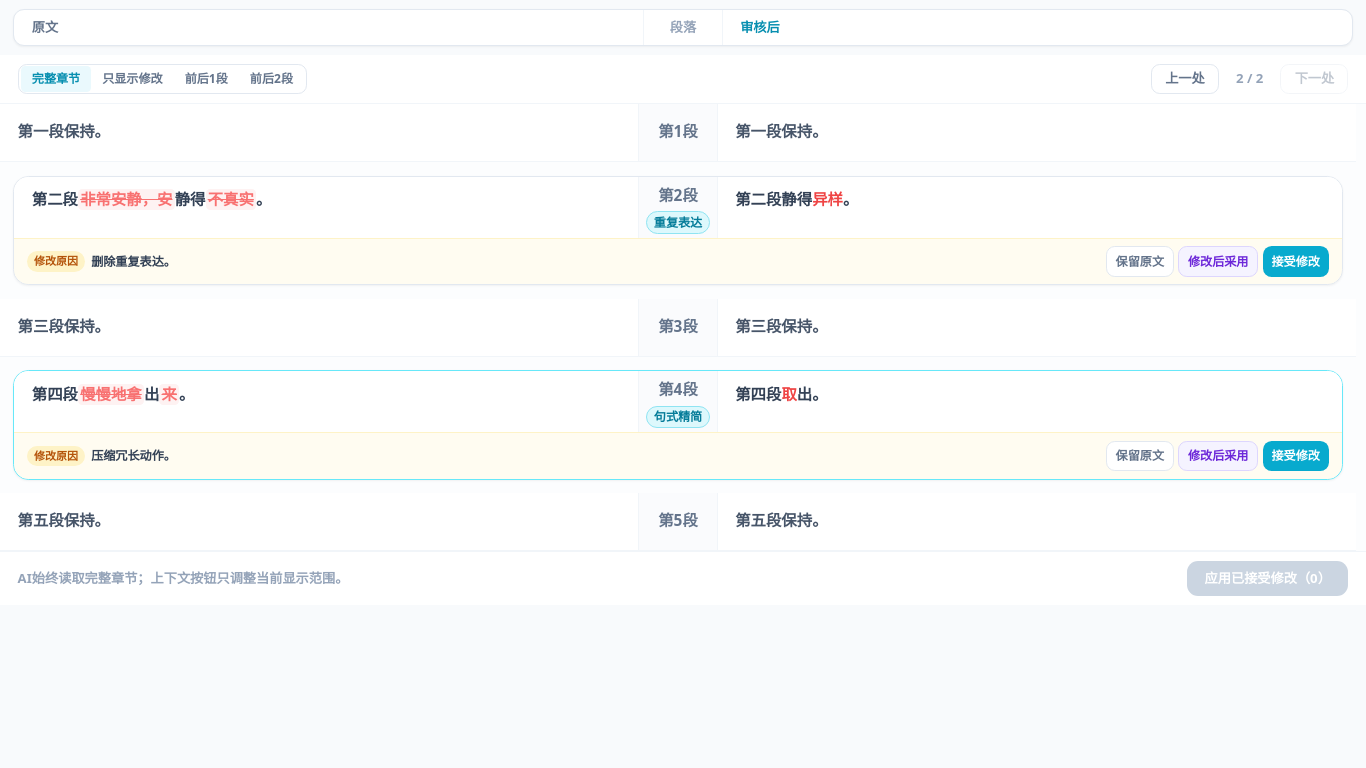
ChapterTextAuditContinuousReview › shows every changed paragraph on one page without previous or next navigation
The image size is (1366, 768).
Click the button "只显示修改". click: (132, 79)
box: [91,66,174,92]
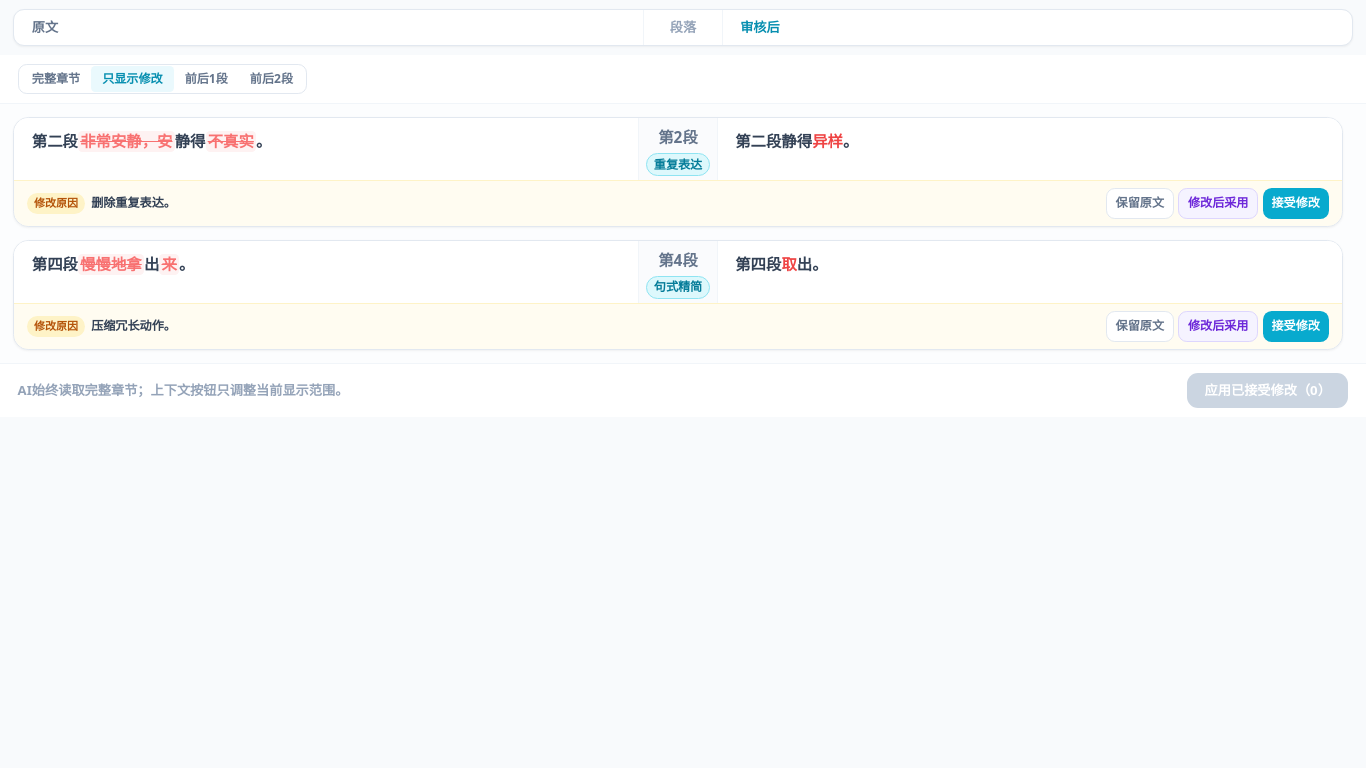
Now the text "第1段" is gone
Now the text "第3段" is gone
Now the text "第5段" is gone
